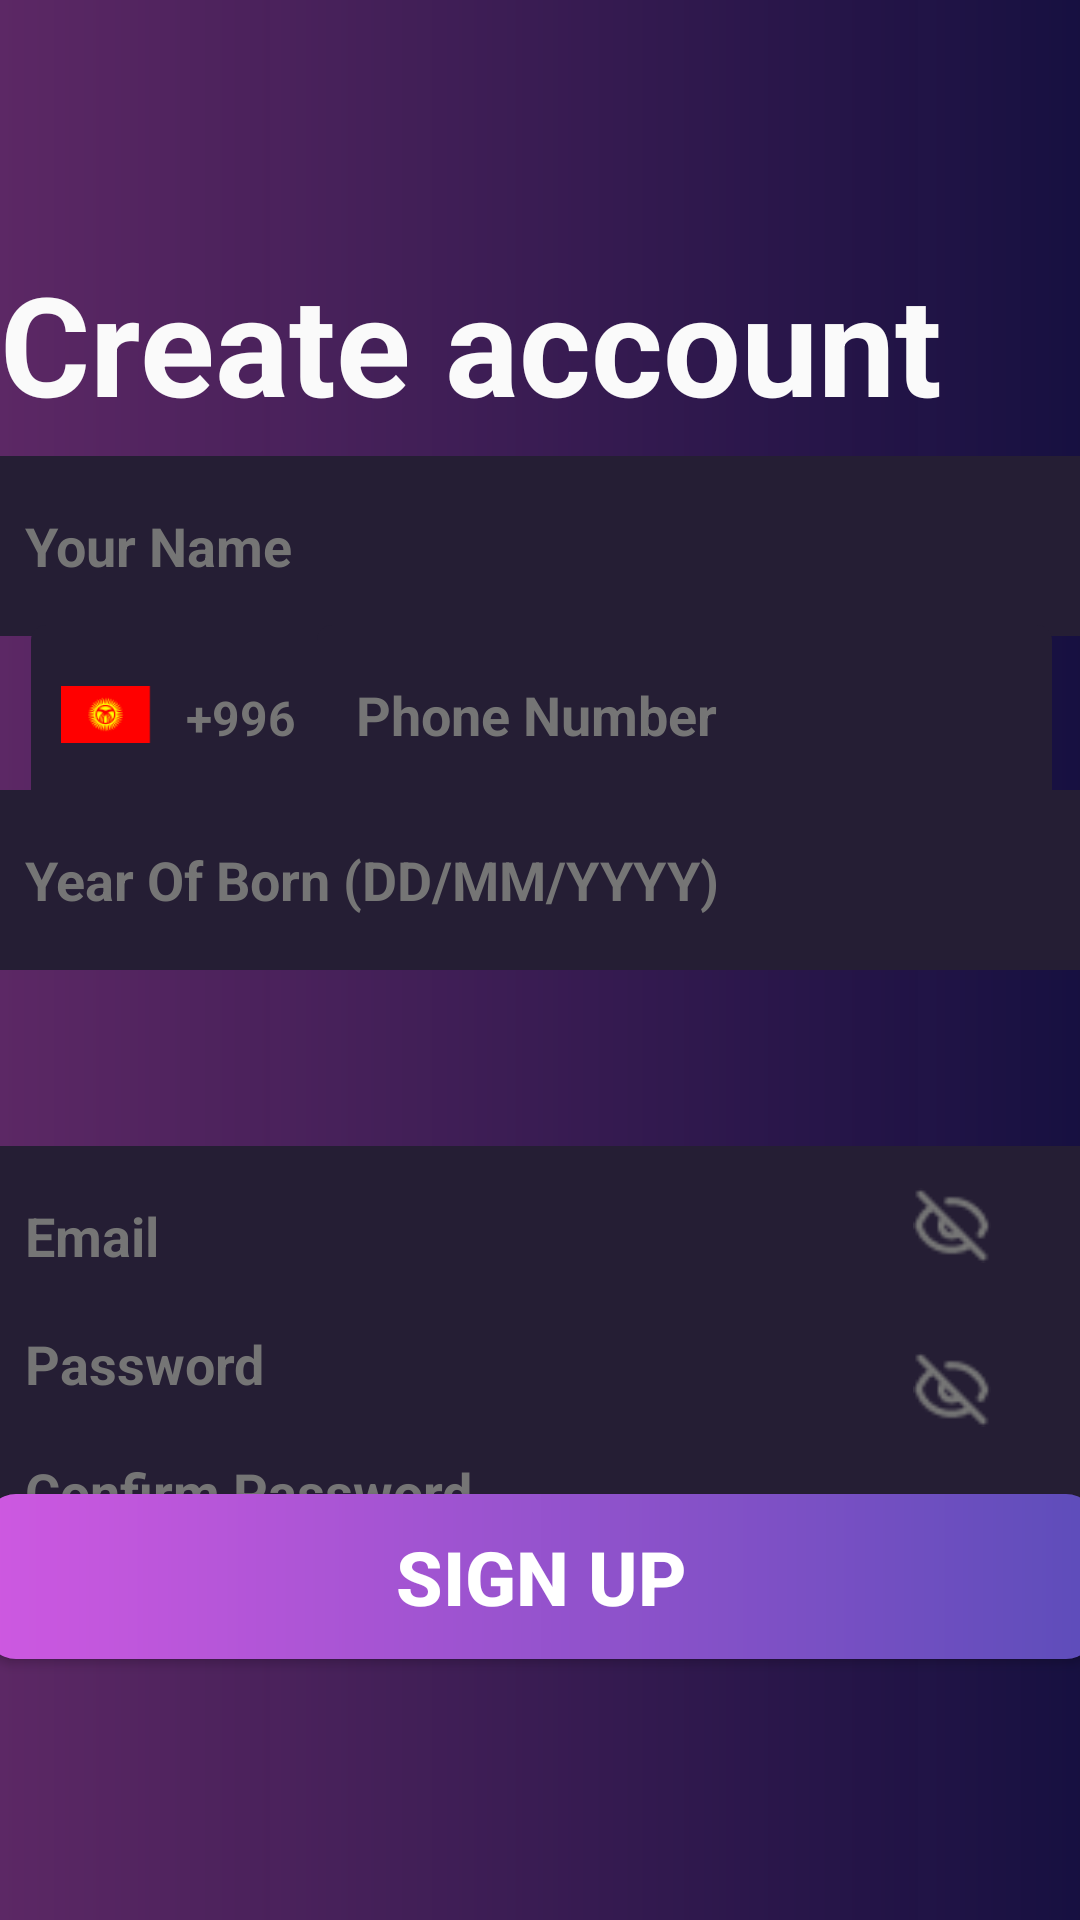

Point at icon controls on the screen. Image size 1080px x 1920px, points as point (x, y).
kgz daniyar: point (106, 714)
